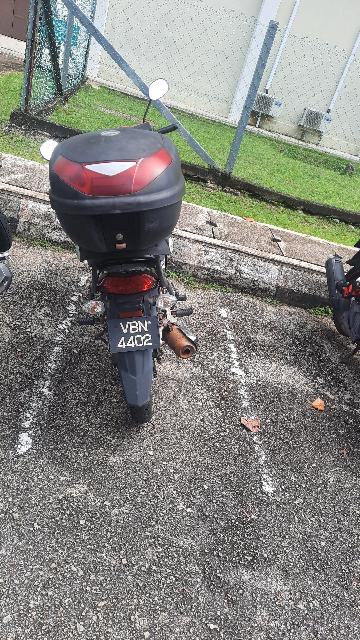License_Plate: (100, 312, 169, 359)
motorcycle: (30, 69, 213, 430)
